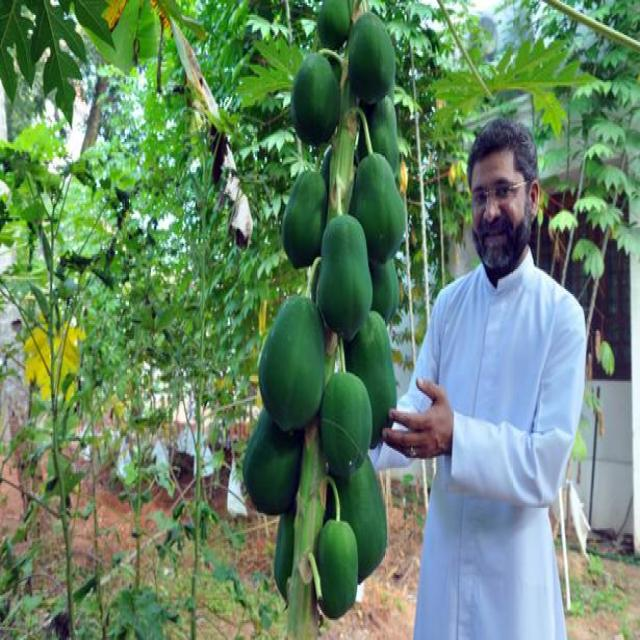Pepaya unrippen: (257, 299, 323, 443), (318, 219, 374, 347), (312, 376, 372, 481), (311, 508, 357, 630), (359, 165, 410, 271), (348, 12, 397, 114), (292, 43, 340, 147), (281, 168, 325, 270)
